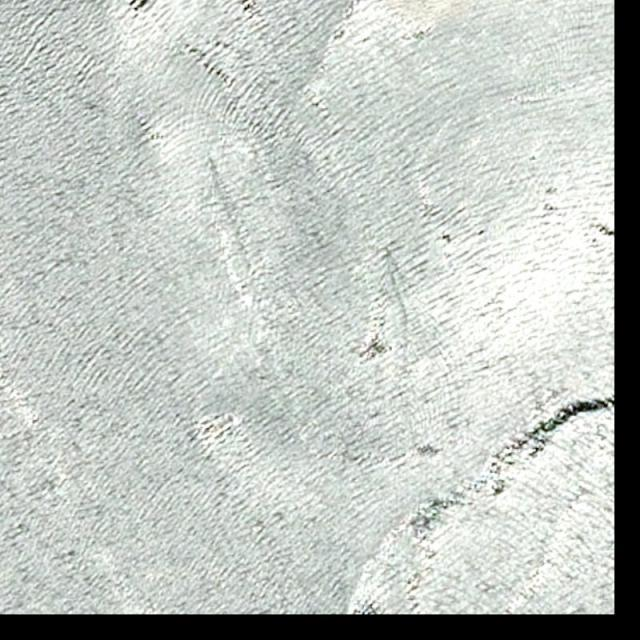ship: (384, 248, 393, 256), (210, 156, 215, 168)
